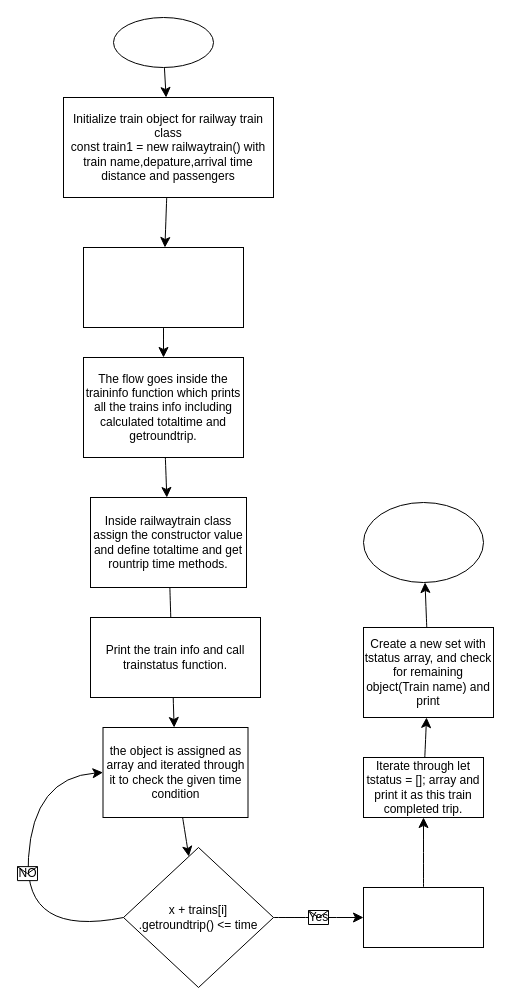
Image size: 512x1005. Some labels were removed from this diagram. Each missing label, with the centre of its shape:
Assign the train name to a array let tstatus = [];: point 423,917
Call the traininfo(train1, train2, train3); function with: point 163,287
End: point 423,542
Start: point 163,42
